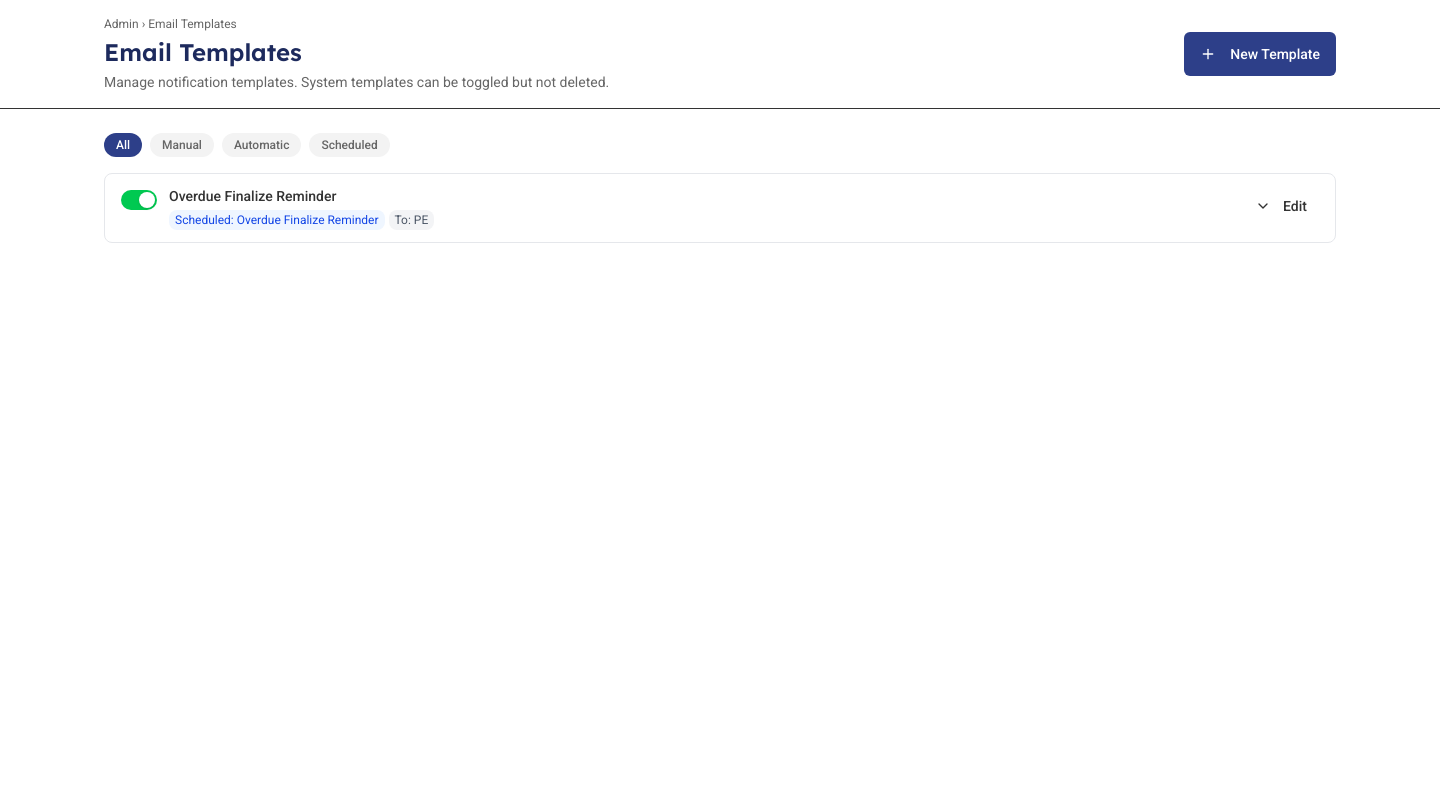
Test: Recipient control — fixed-recipient triggers › disables the Recipient selector for scheduled.reminderOverdueFinalize
The image size is (1440, 810).
What coordinates should you click on to do the following:
click the button "Edit"
I would click on:
 (1281, 206)
Its box is 1243,186 -> 1319,226.
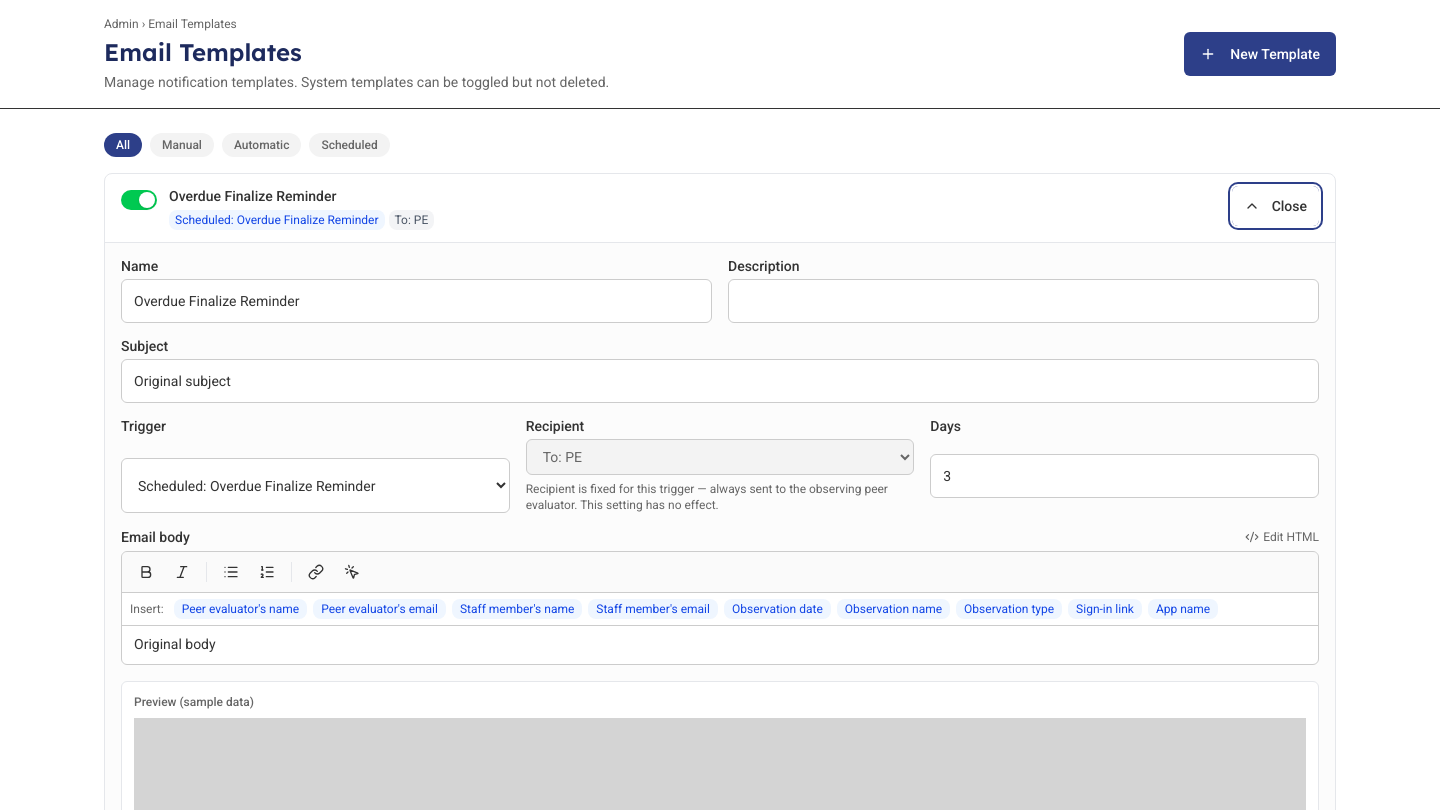
Result: the dropdown labelled "Recipient" is disabled at 526,439 -> 914,475
Result: the text "Recipient is fixed for this trigger" is shown at 526,482 -> 786,496
Result: the text "the observing peer evaluator" is shown at 526,482 -> 888,512
